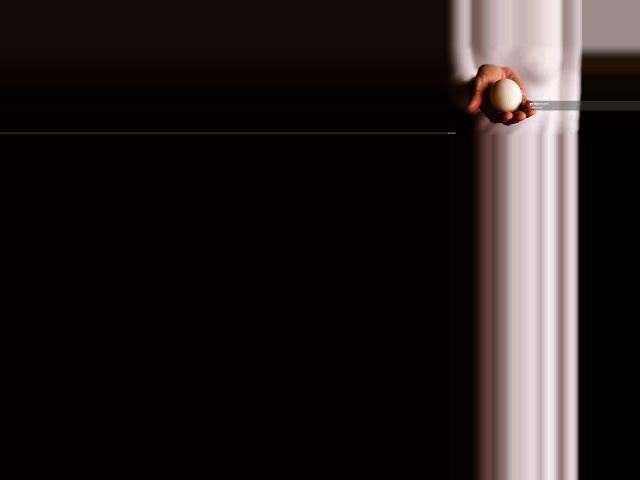egg: (489, 79, 522, 113)
